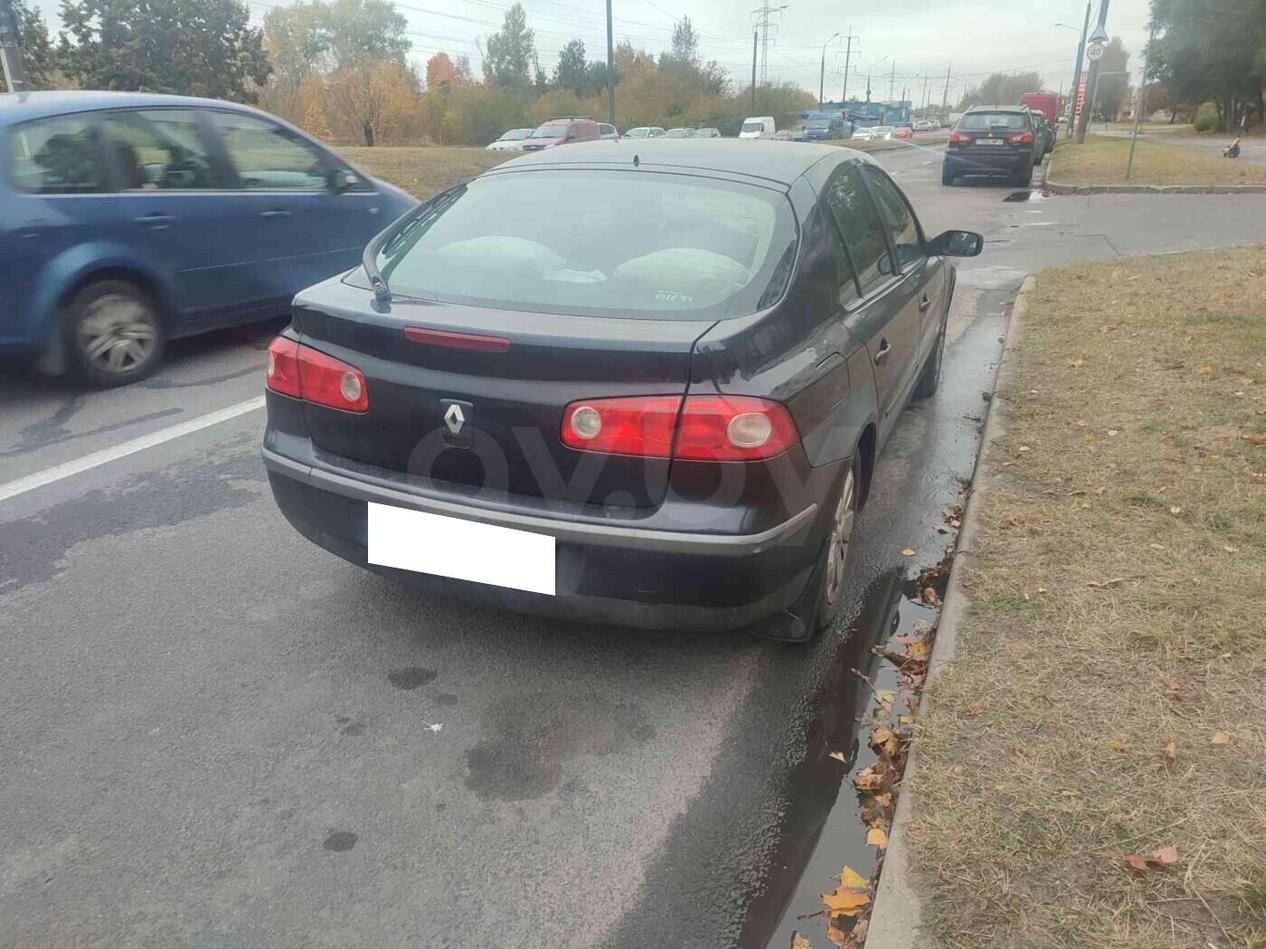Laguna_2005-2007: (258, 127, 966, 651)
